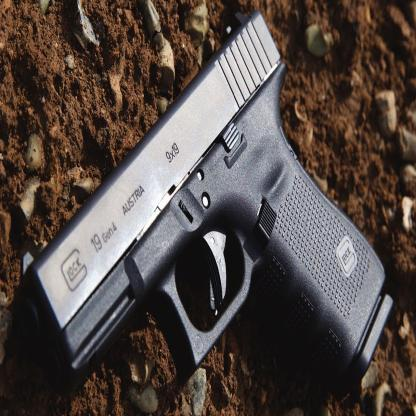handgun: (20, 3, 404, 416)
